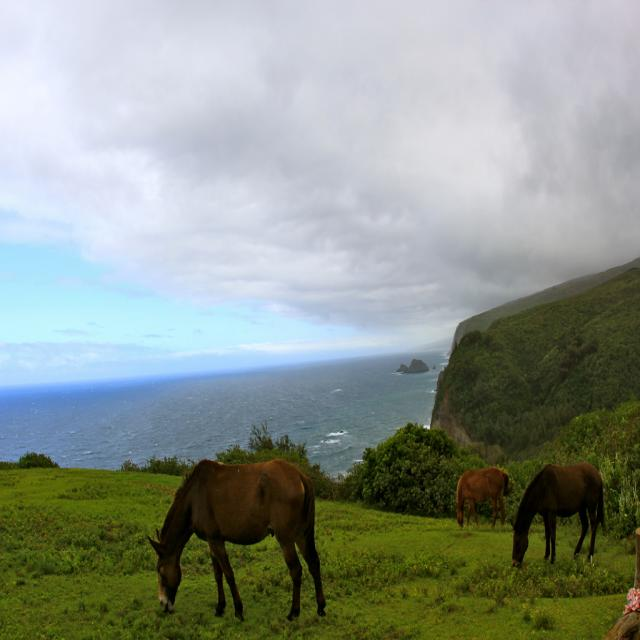Horse: (147, 457, 326, 621), (510, 463, 610, 566), (452, 466, 509, 530)
